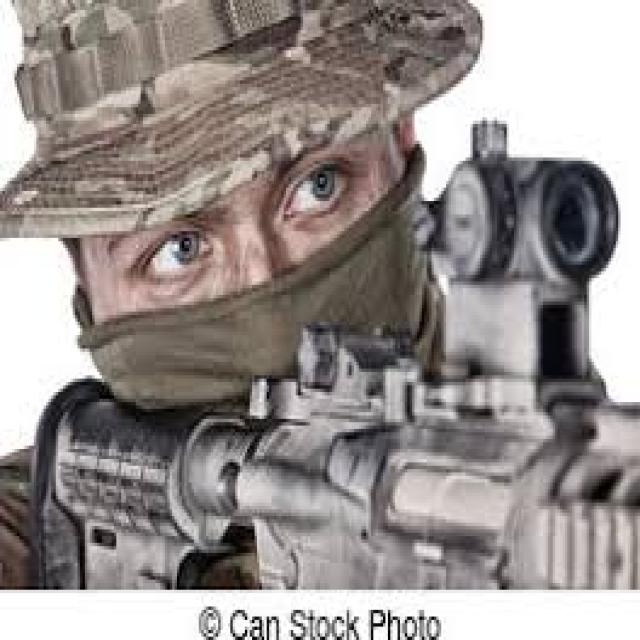soldier: (2, 4, 640, 593)
